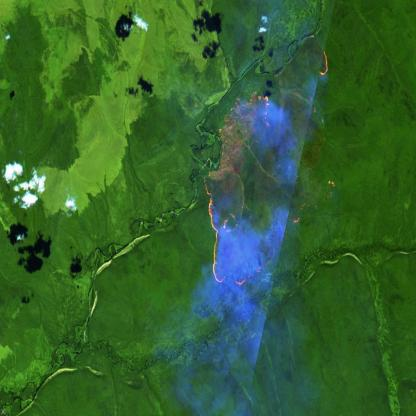fire: (201, 34, 339, 292)
